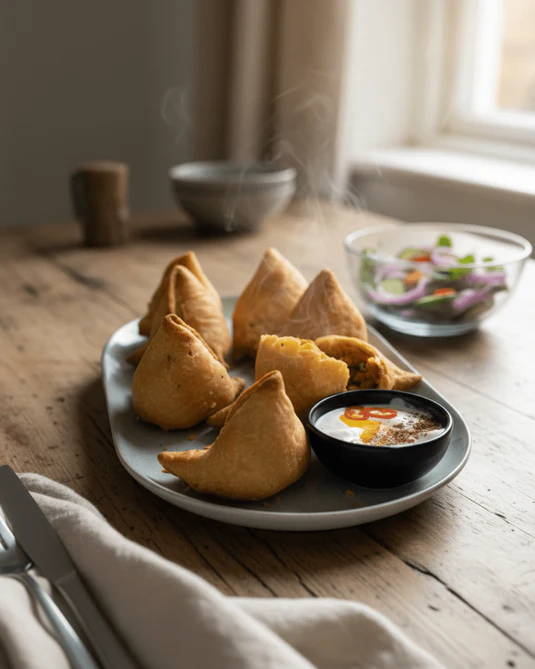samosa: (160, 367, 307, 505), (254, 325, 422, 401), (132, 314, 243, 425), (228, 243, 302, 333), (143, 245, 227, 314), (284, 269, 364, 341)
